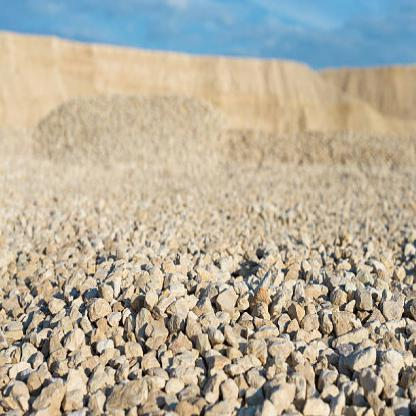Sedimentary_Limestone: (248, 257, 278, 326), (332, 323, 376, 361), (86, 295, 118, 322), (146, 315, 175, 344), (219, 375, 242, 411), (266, 384, 296, 409)
